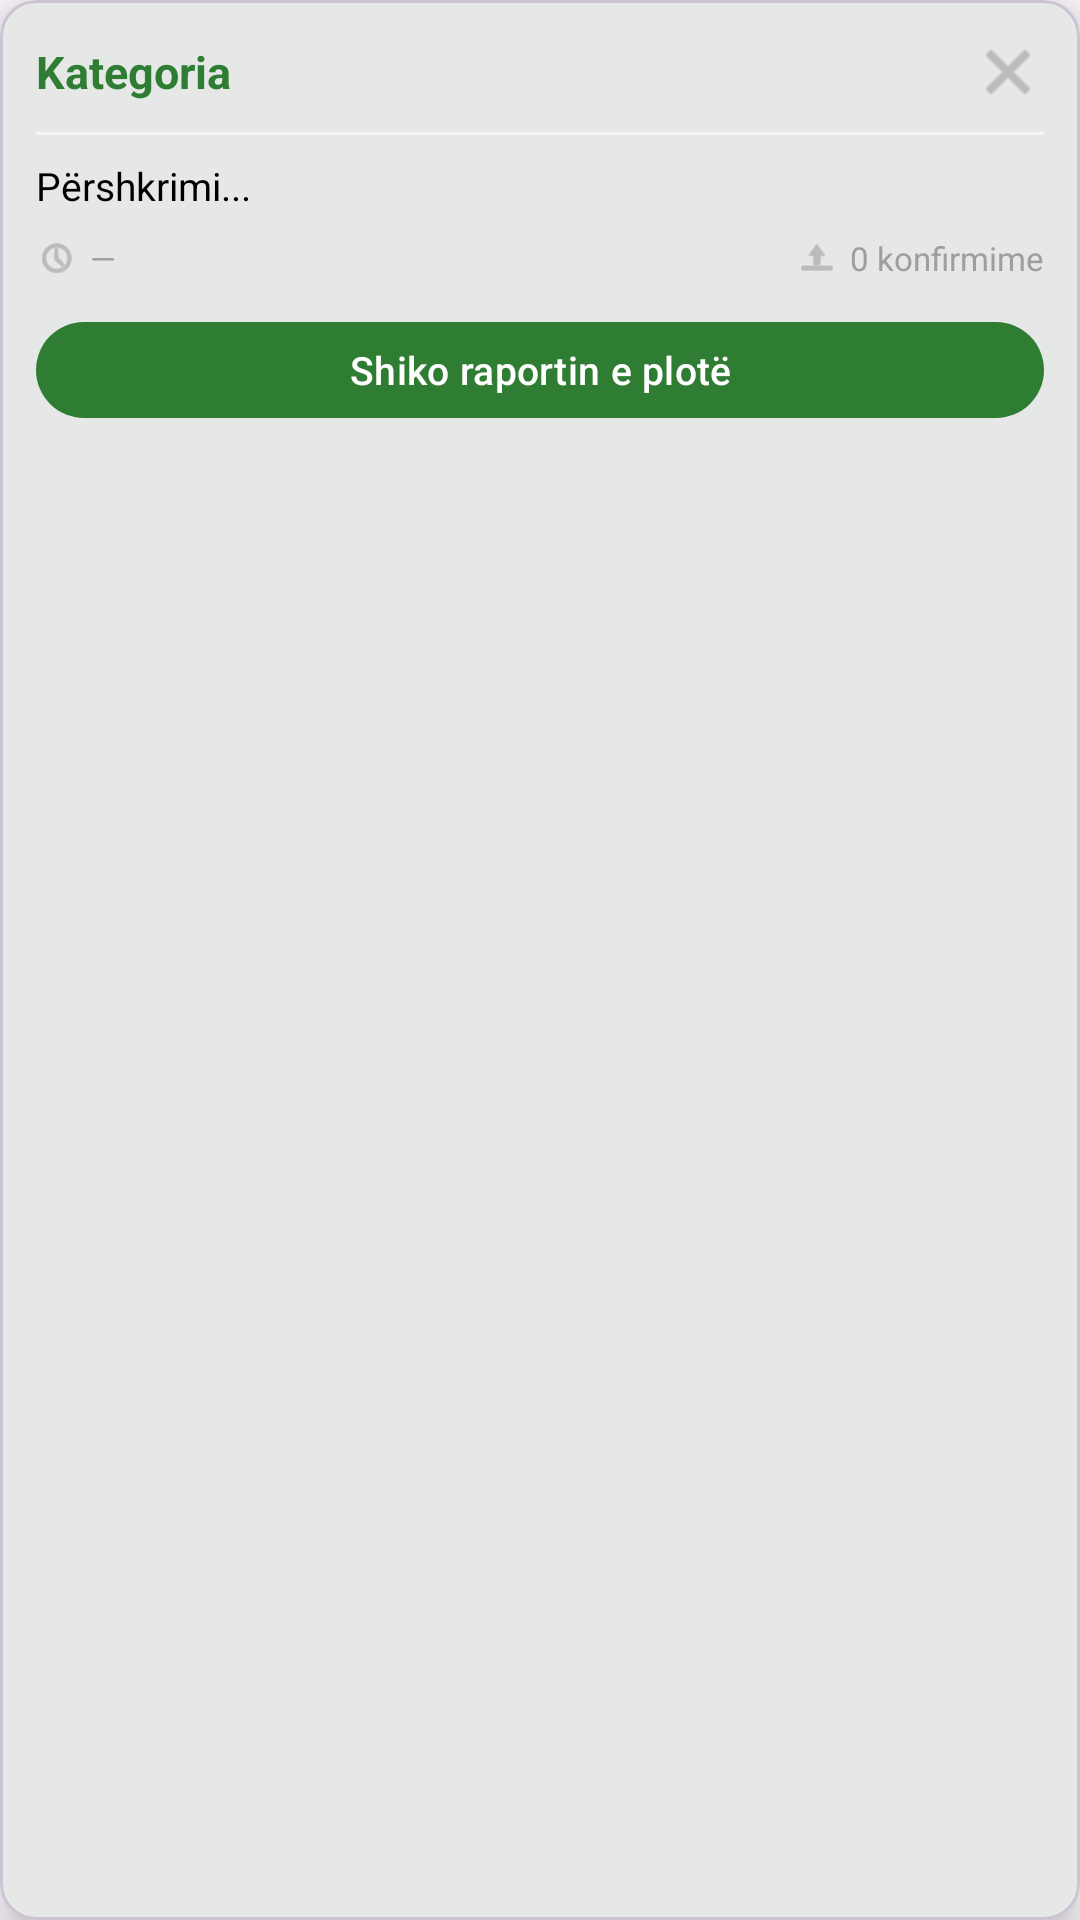

Named icons in this screenshot (1080*1920) and their centers, (x,y):
close clear cancel: (1007,71)
recent history: (57,258)
upload: (817,258)
